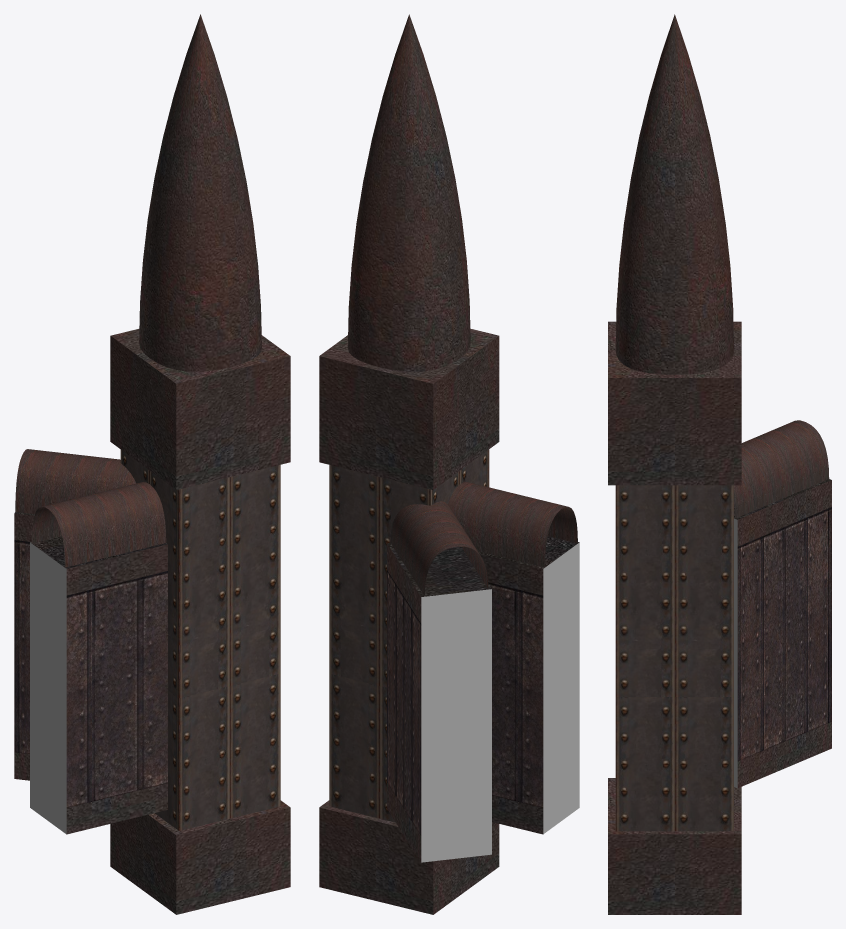
The model's file is 14gate-corner-45.obj.
The picture shows the model from 3 angles, left to right: view 1: azimuth 30°, elevation 25°; view 2: azimuth 150°, elevation 25°; view 3: azimuth 270°, elevation 25°; orthographic projection.
Visible parts, largest first — view 1: entity0_brush6, entity0_patch4, entity0_brush10, entity0_brush5, entity0_brush7, entity0_patch8, entity0_patch3, entity0_brush9, entity0_brush11, entity0_brush2; view 2: entity0_patch4, entity0_brush6, entity0_brush2, entity0_brush5, entity0_brush10, entity0_brush7, entity0_patch8, entity0_brush1, entity0_patch3, entity0_brush9, entity0_brush0, entity0_brush11; view 3: entity0_brush6, entity0_patch4, entity0_brush2, entity0_brush5, entity0_brush7, entity0_patch3, entity0_brush1, entity0_brush0.
Part boxes in pixels (left/top/right/bottom): entity0_brush6: left=120, top=449, right=280, bottom=830; entity0_patch4: left=139, top=14, right=261, bottom=371; entity0_brush10: left=30, top=569, right=167, bottom=807; entity0_brush5: left=110, top=329, right=290, bottom=489; entity0_brush7: left=110, top=800, right=290, bottom=914; entity0_patch8: left=32, top=482, right=166, bottom=567; entity0_patch3: left=15, top=449, right=135, bottom=513; entity0_brush9: left=30, top=536, right=167, bottom=595; entity0_brush11: left=30, top=781, right=167, bottom=834; entity0_brush2: left=14, top=540, right=30, bottom=753; entity0_patch4: left=347, top=14, right=470, bottom=371; entity0_brush6: left=329, top=449, right=489, bottom=822; entity0_brush2: left=387, top=570, right=491, bottom=835; entity0_brush5: left=319, top=328, right=499, bottom=489; entity0_brush10: left=488, top=569, right=579, bottom=807; entity0_brush7: left=319, top=800, right=499, bottom=914; entity0_patch8: left=448, top=482, right=577, bottom=567; entity0_brush1: left=387, top=543, right=491, bottom=623; entity0_patch3: left=390, top=501, right=488, bottom=595; entity0_brush9: left=478, top=536, right=579, bottom=595; entity0_brush0: left=387, top=782, right=491, bottom=862; entity0_brush11: left=492, top=781, right=579, bottom=834; entity0_brush6: left=615, top=485, right=733, bottom=831; entity0_patch4: left=615, top=14, right=733, bottom=374; entity0_brush2: left=734, top=507, right=831, bottom=761; entity0_brush5: left=608, top=321, right=741, bottom=485; entity0_brush7: left=608, top=778, right=741, bottom=914; entity0_patch3: left=734, top=420, right=829, bottom=518; entity0_brush1: left=734, top=479, right=831, bottom=546; entity0_brush0: left=734, top=722, right=831, bottom=788.
Bounding box in the file's own units: 132 × 520 × 121.
